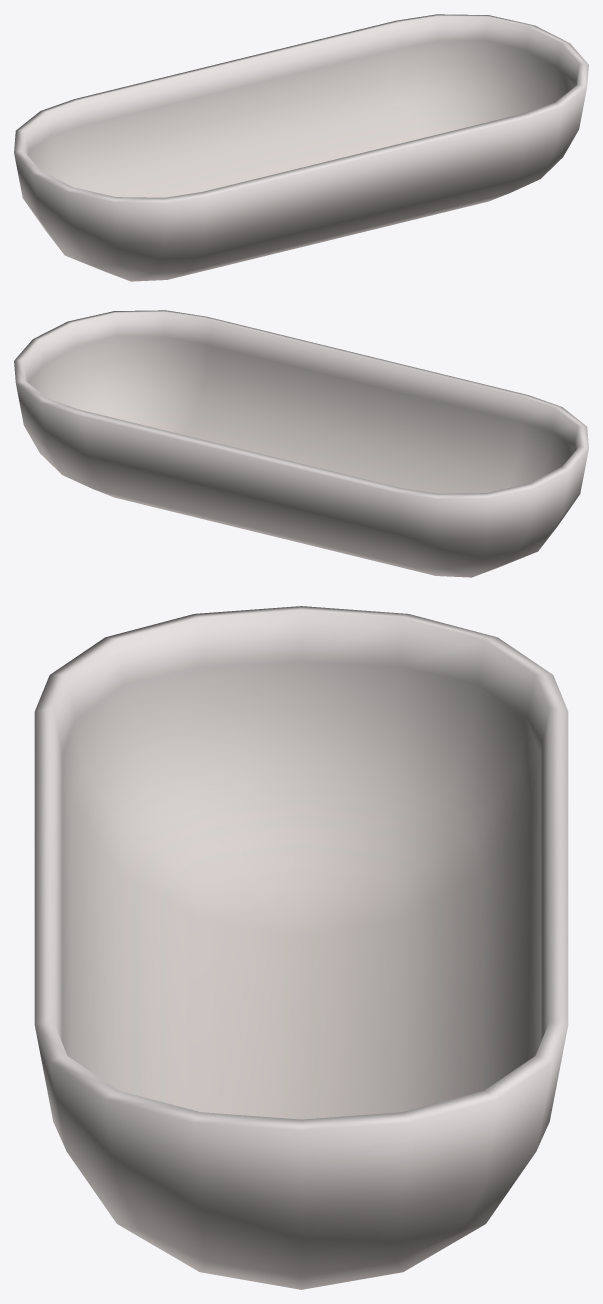
File: bathtube.fbx
3 renders of one model, top to bottom at view 1: azimuth 30°, elevation 25°; view 2: azimuth 150°, elevation 25°; view 3: azimuth 270°, elevation 25°, orthographic. The views are drawn at different scales.
Visible parts, largest first — view 1: Cube; view 2: Cube; view 3: Cube.
Part boxes in pixels (x1=…): Cube: x1=14, y1=14, x2=588, y2=281; Cube: x1=14, y1=310, x2=588, y2=577; Cube: x1=34, y1=606, x2=568, y2=1289.
Size of the model in its own units: 385 by 83.84 by 166.
